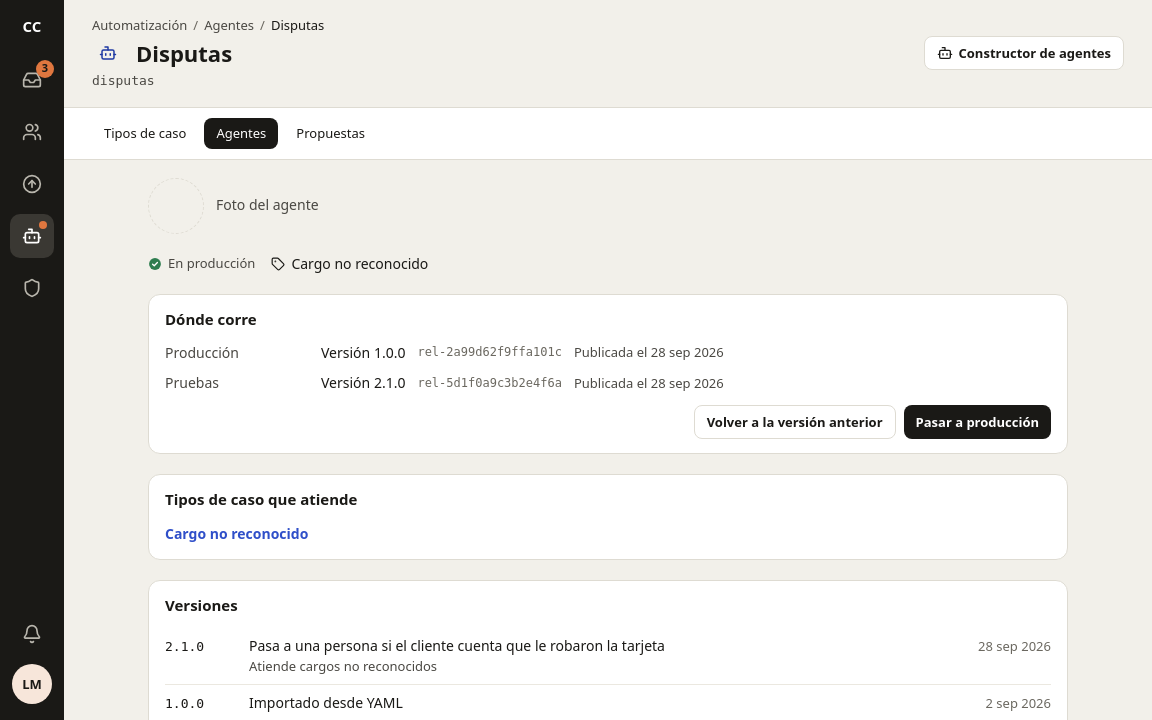
it: agents (slice 22) › shows one agent: where it runs, what it serves, its versions; rolls prod back with her code
Check: the heading "Disputas" is shown, box [99, 38, 232, 68]
Check: the text "Versión 1.0.0" is shown, box [321, 343, 405, 363]
Click the button "Volver a la versión anterior" at x=795, y=422, box [694, 405, 896, 439]
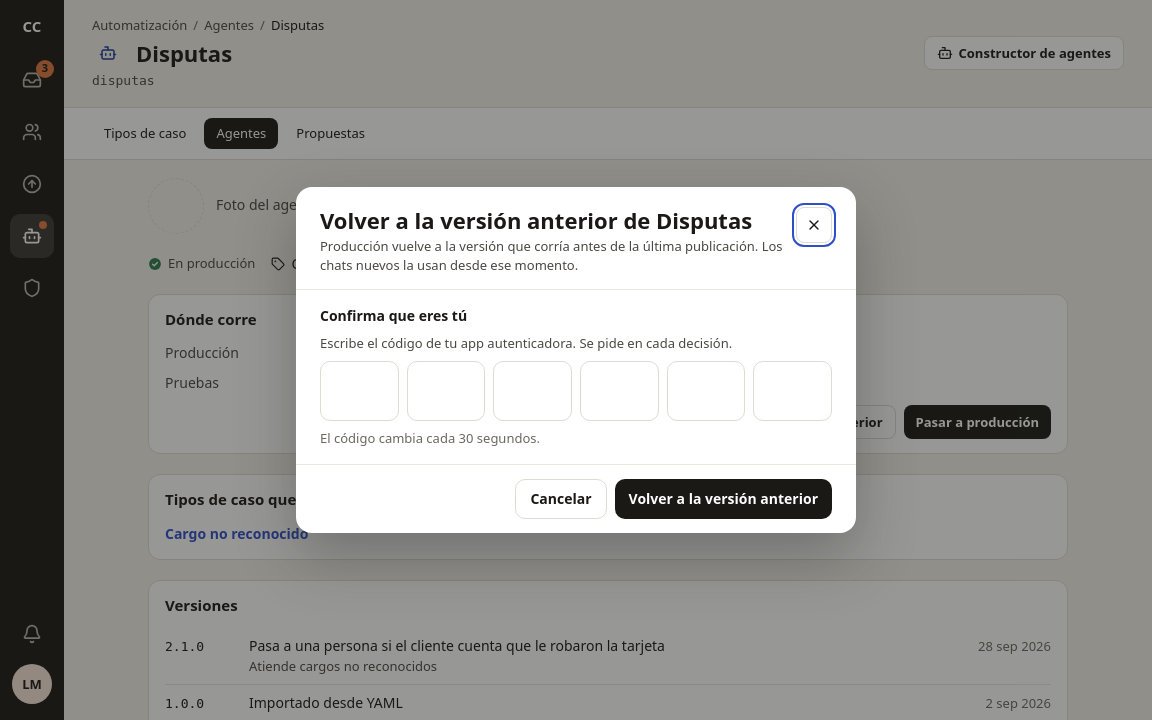
Click the field named "Dígito 1" at x=359, y=391, box [320, 361, 399, 421]
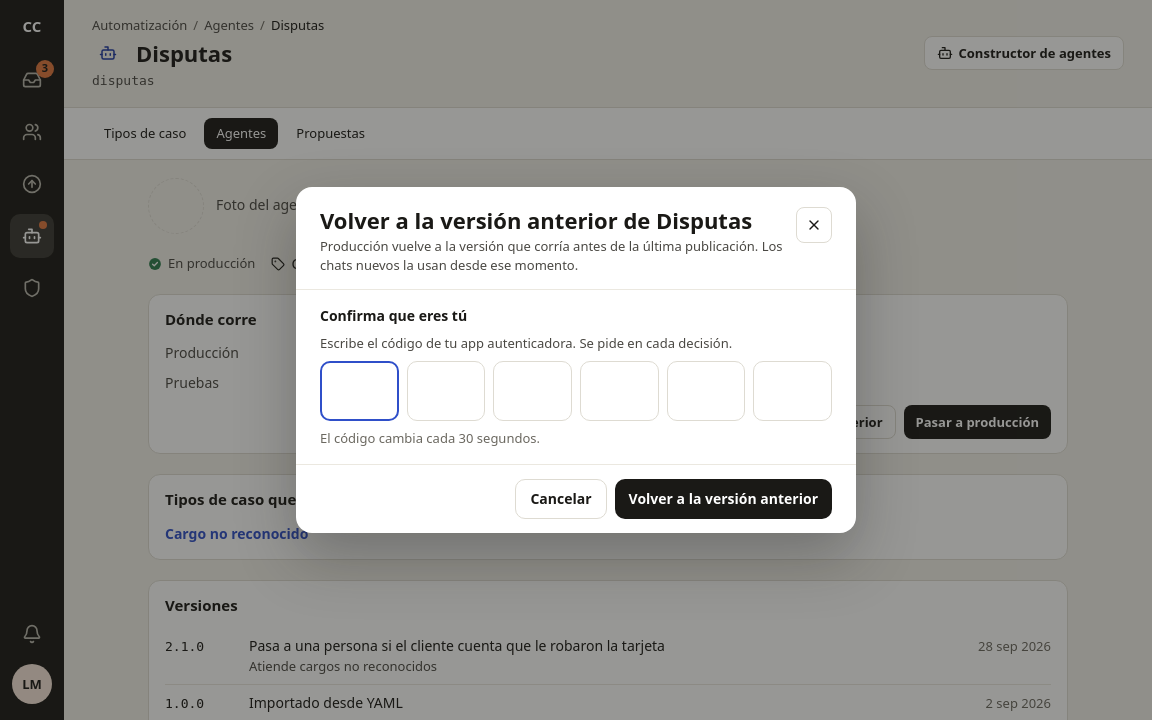
Type keys "000000"
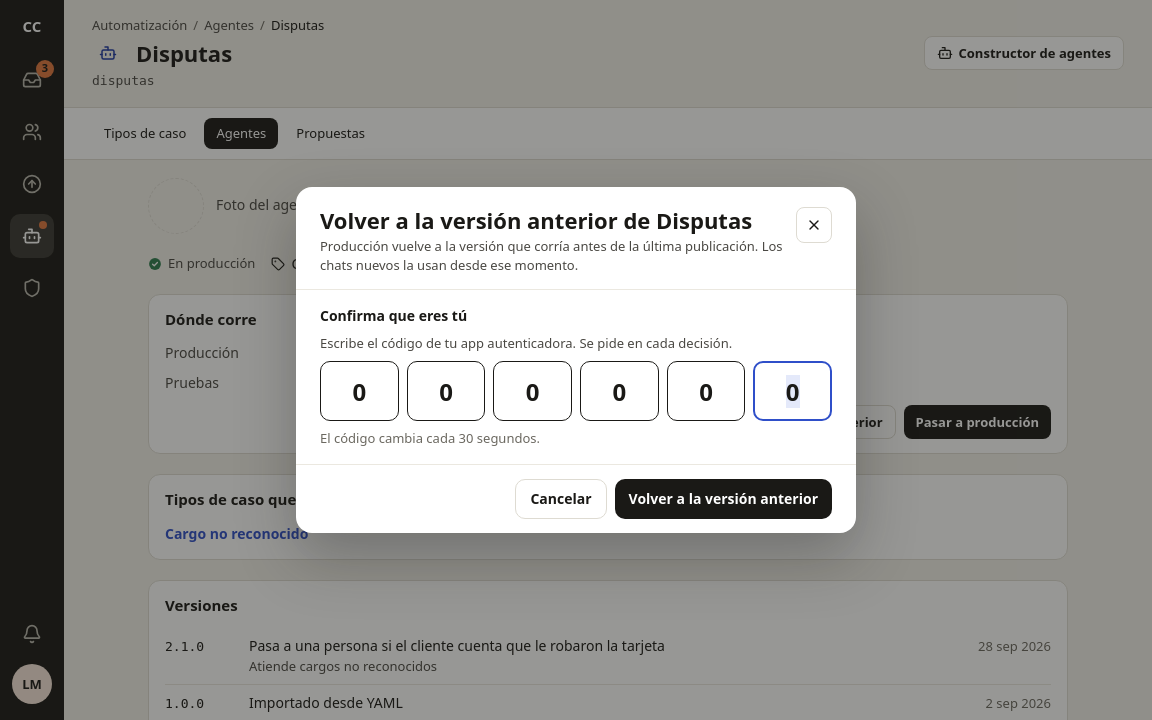
Click the button "Volver a la versión anterior" at x=723, y=499, box [615, 479, 832, 519]
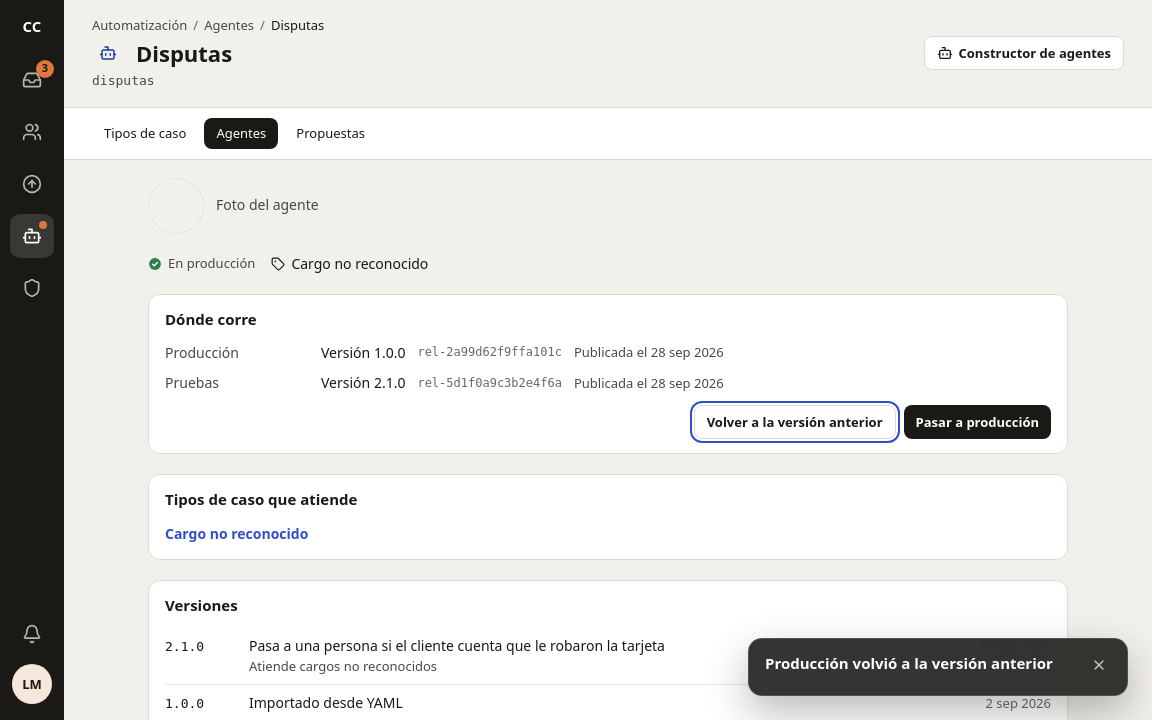
Check: the button "Pasar a producción" is shown, box [904, 405, 1051, 439]
Check: the text "Producción volvió a la versión anterior" is shown, box [765, 653, 1053, 675]
